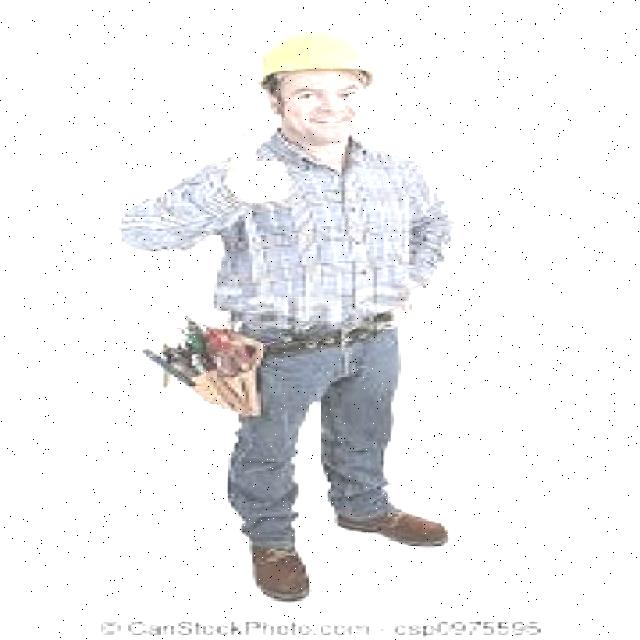Helmet: (246, 30, 386, 81)
